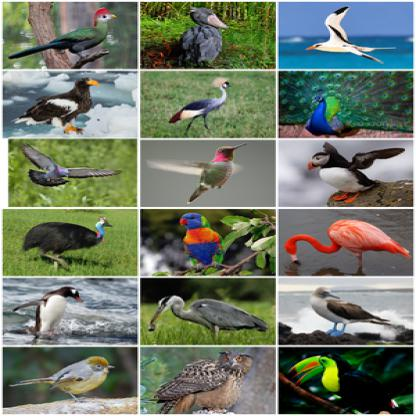bird: (284, 220, 414, 277), (150, 346, 268, 407), (8, 9, 119, 69), (306, 147, 407, 204), (147, 298, 272, 343), (294, 352, 396, 406), (309, 288, 410, 341), (9, 358, 120, 405), (23, 217, 115, 266), (11, 78, 104, 126), (12, 287, 86, 338), (186, 145, 250, 203), (167, 81, 234, 136), (23, 148, 123, 184), (182, 9, 229, 68), (182, 214, 225, 269), (309, 9, 356, 53), (307, 98, 352, 137)
